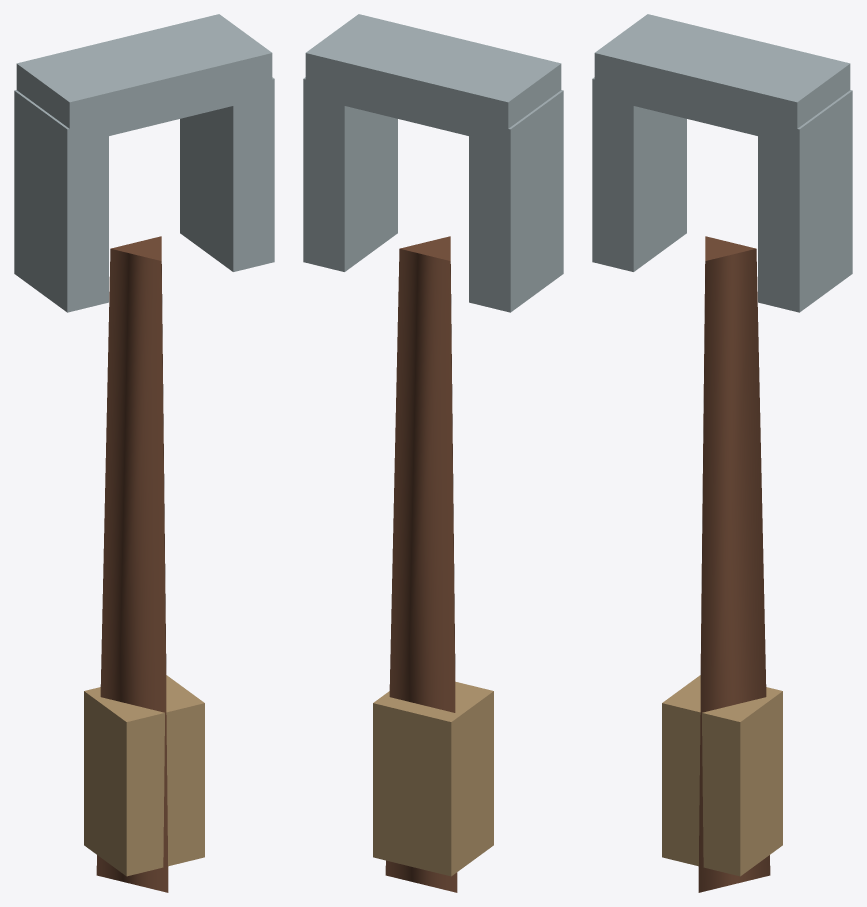
File: wand-4-lod2.glb
The picture shows the model from 3 angles, left to right: view 1: azimuth 30°, elevation 25°; view 2: azimuth 150°, elevation 25°; view 3: azimuth 330°, elevation 25°; orthographic projection.
Parts seen in each view (by area): view 1: piece_whole; view 2: piece_whole; view 3: piece_whole.
Part boxes in pixels (<box>): piece_whole: <box>14,14,274,892</box>; piece_whole: <box>303,14,563,892</box>; piece_whole: <box>592,14,852,892</box>.
Bounding box in the file's own units: 0.225 × 0.8475 × 0.1.
